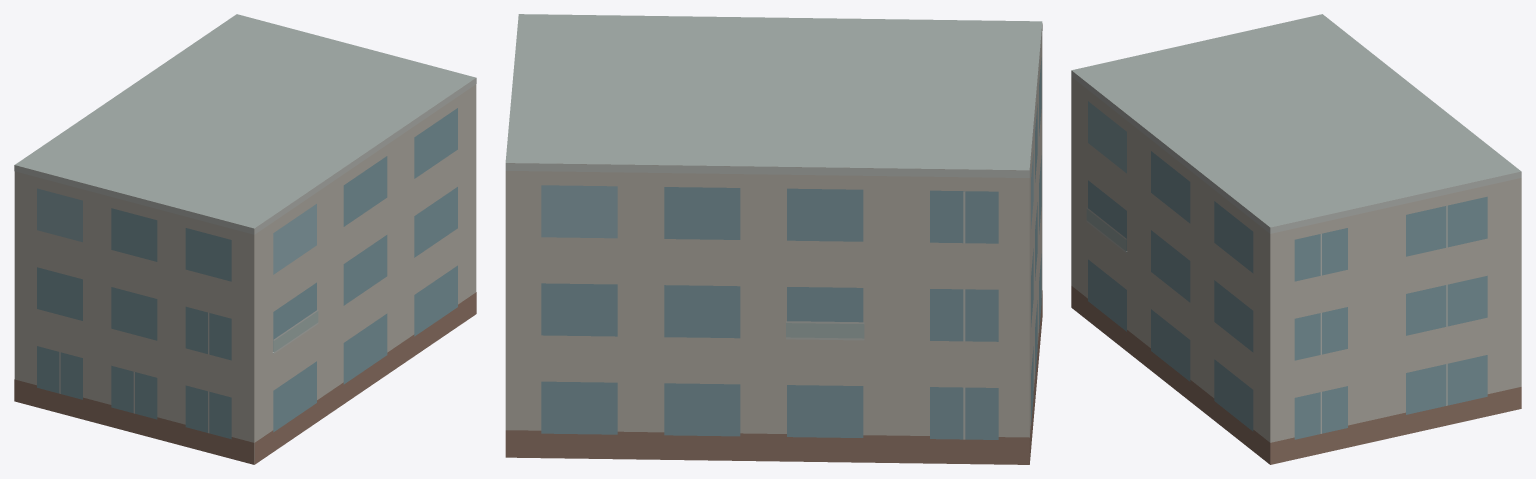
The model's file is survey-upis-32710329.glb.
3 views of the same model, side by side, from view 1: azimuth 30°, elevation 25°; view 2: azimuth 150°, elevation 25°; view 3: azimuth 270°, elevation 25° (orthographic). The views are drawn at different scales.
Parts seen in each view (by area): view 1: survey-upis-32710329.tmp; view 2: survey-upis-32710329.tmp; view 3: survey-upis-32710329.tmp.
Part boxes in pixels (x1,y1,x2,y2): survey-upis-32710329.tmp: [14, 14, 476, 464]; survey-upis-32710329.tmp: [505, 14, 1042, 464]; survey-upis-32710329.tmp: [1071, 14, 1521, 464].
Bounding box in the file's own units: 17.67 × 9.15 × 15.74.
